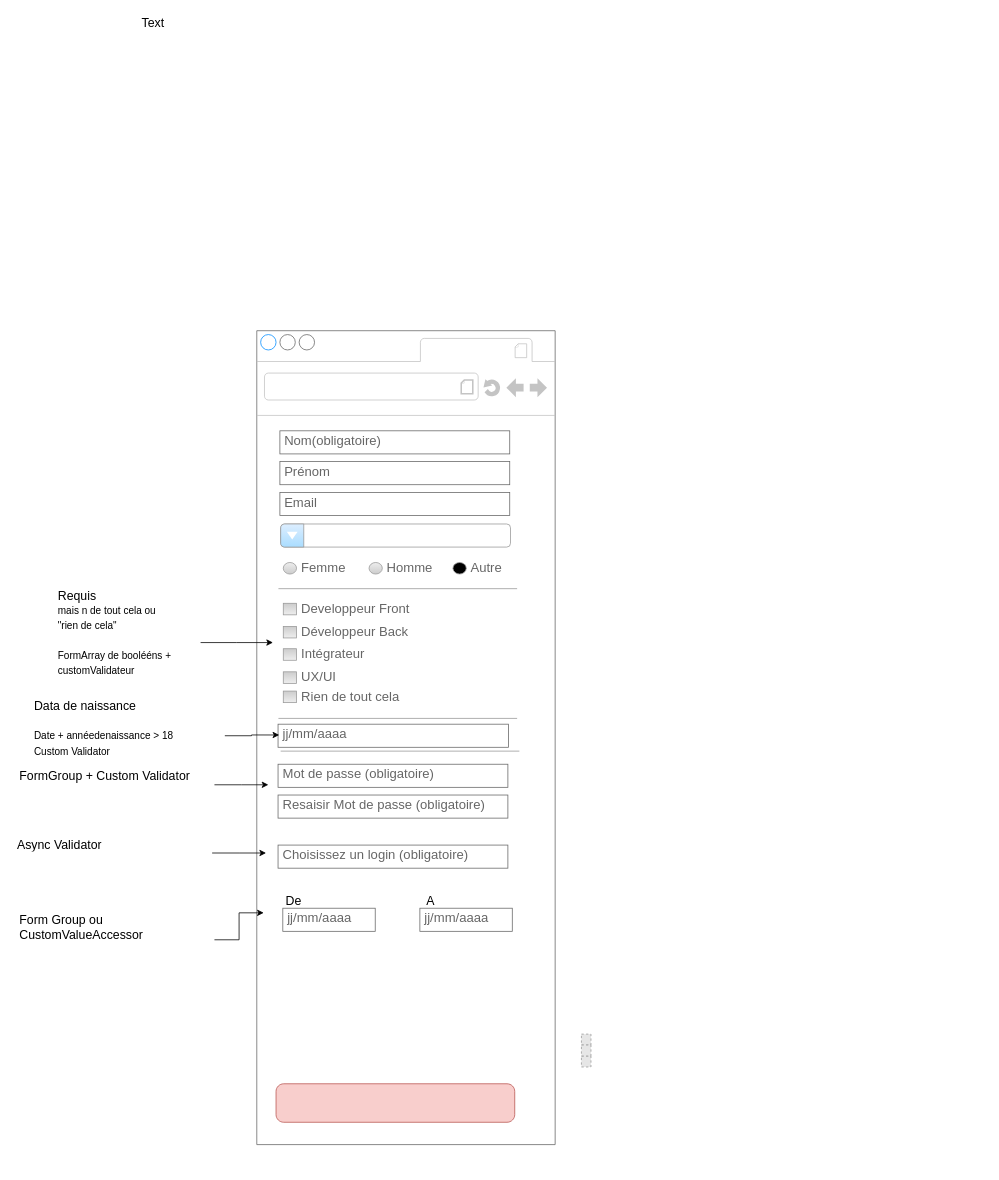
The diagram is 999 pixels wide and 1180 high, and some of its shapes have lost their labels. Grey dashed boxes stand in for pictures. Each missing label, with the box of its shape:
https://www.validation.com: (275, 376, 469, 397)
Nationalité: (280, 523, 511, 547)
Page 1: (419, 339, 505, 360)
Valider: (275, 1083, 515, 1122)
